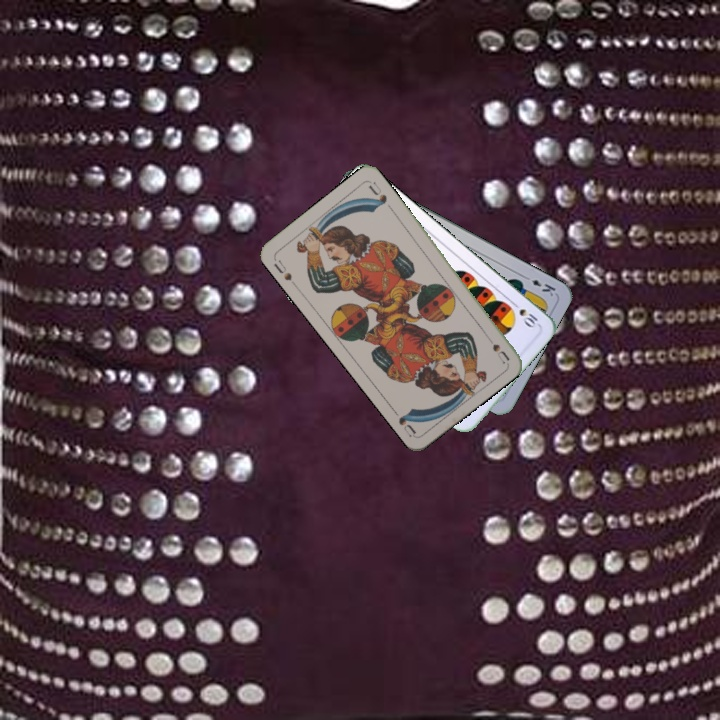EK: (520, 272, 558, 299)
S10: (508, 297, 541, 331)
SU: (480, 329, 512, 365), (269, 256, 299, 290)
